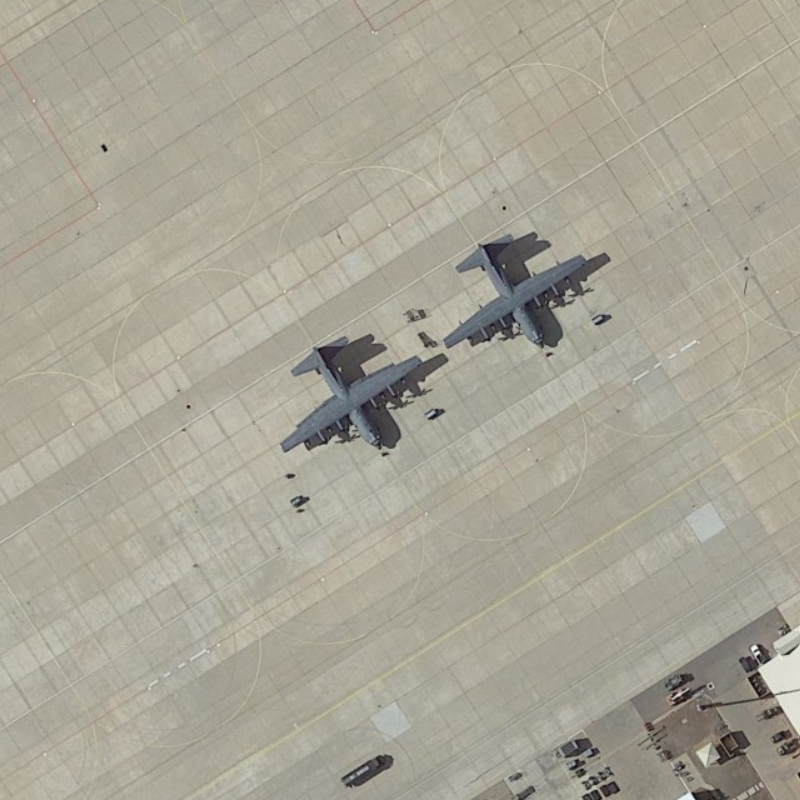A2: (436, 227, 590, 350), (276, 329, 426, 454)
